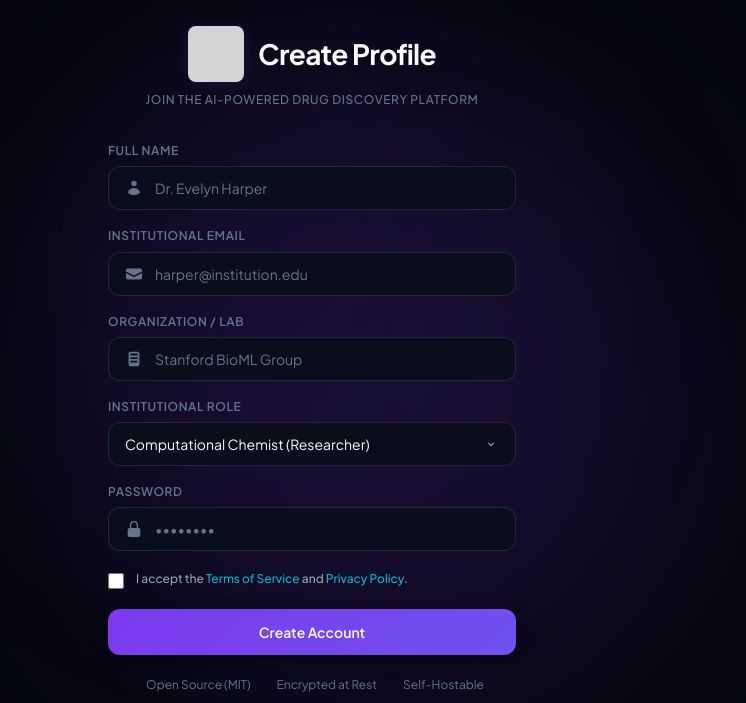
Test: SignupPage › shows inline error for an invalid email on blur
Type "not-an-email" into the field labelled "Institutional Email".
click(312, 274); type("not-an-email")  # box [109, 253, 515, 295]
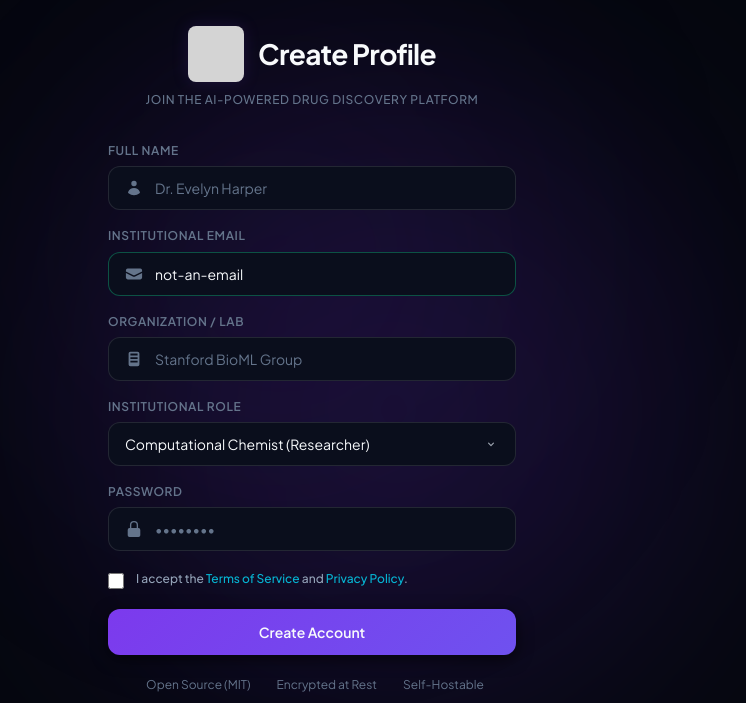
Leave the field labelled "Institutional Email", box [109, 253, 515, 295]
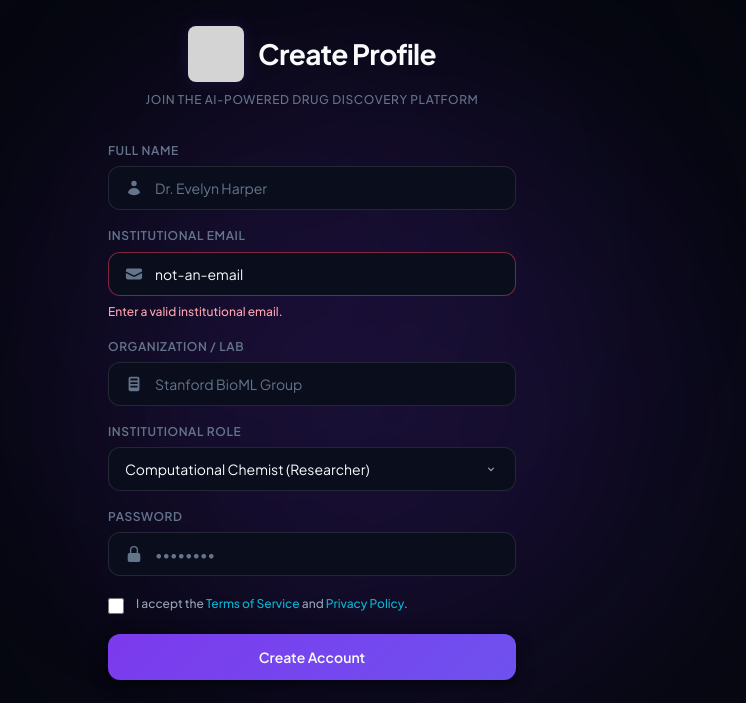
Check: the text "Enter a valid institutional email." is shown, box [108, 304, 282, 319]
